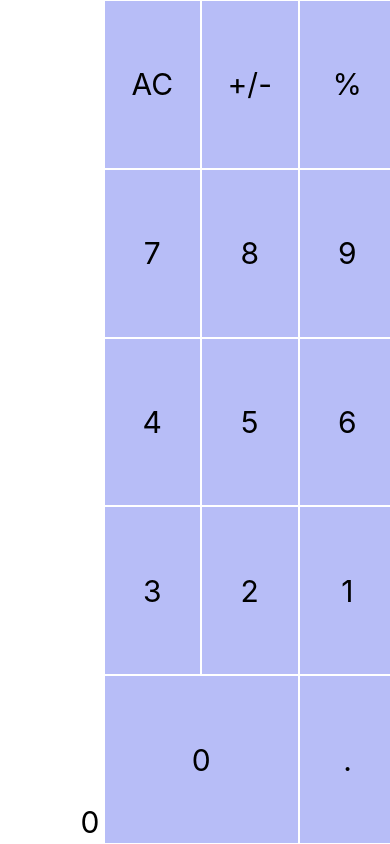
Test: ActionButtons › behavior › should reset the screen to '0' when AC is pressed
Click the element with test id "root-touchable-button-5": (250, 422) x1=202 y1=339 x2=298 y2=505
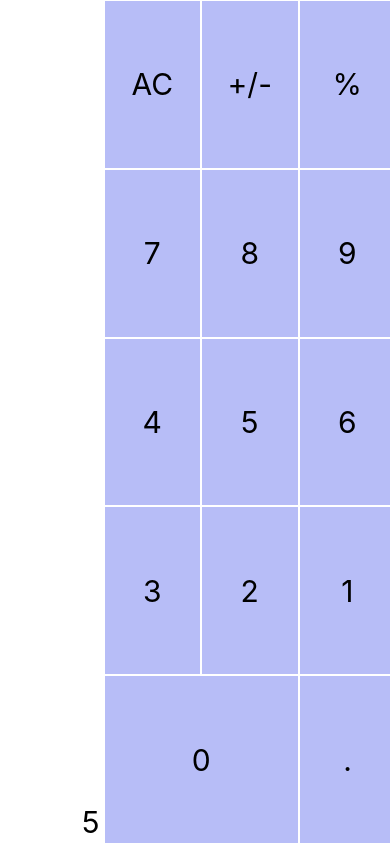
Click the element with test id "root-touchable-button-AC": (152, 84) x1=104 y1=1 x2=200 y2=168
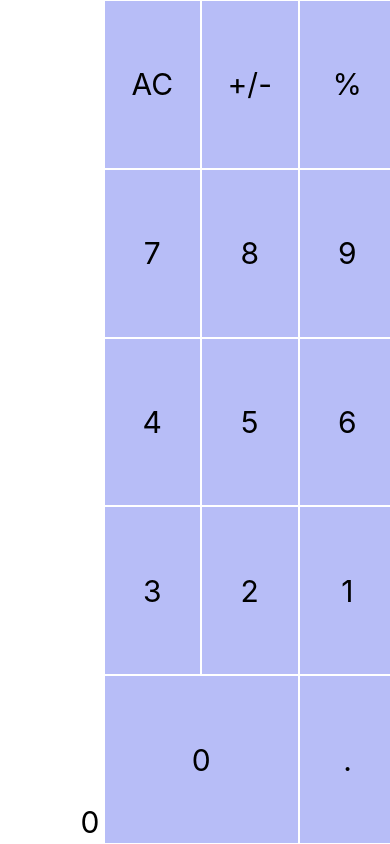
Expected: the element with test id "screen-root-view" reads "0", x1=81 y1=804 x2=100 y2=840
